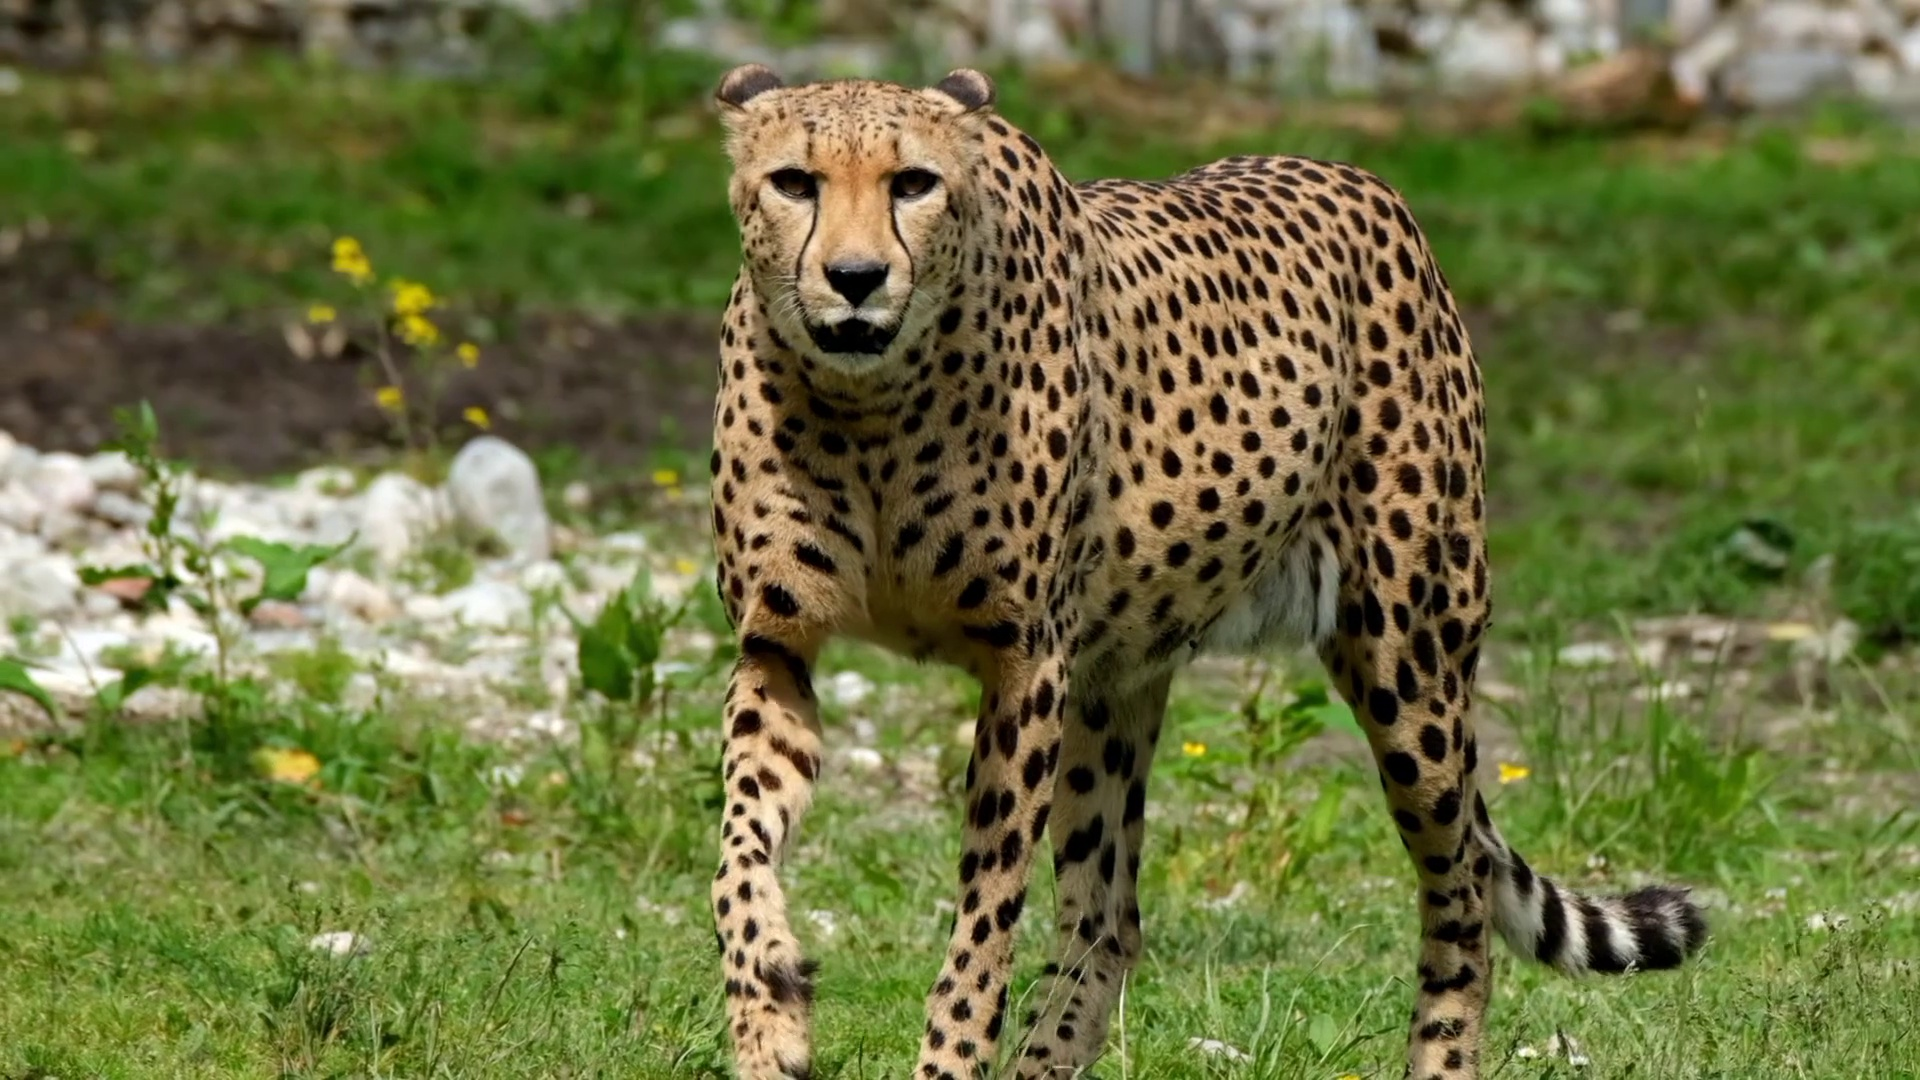Cheetah: (704, 61, 1712, 1080)
